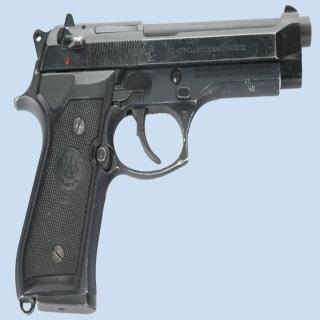gun: (9, 2, 312, 320)
